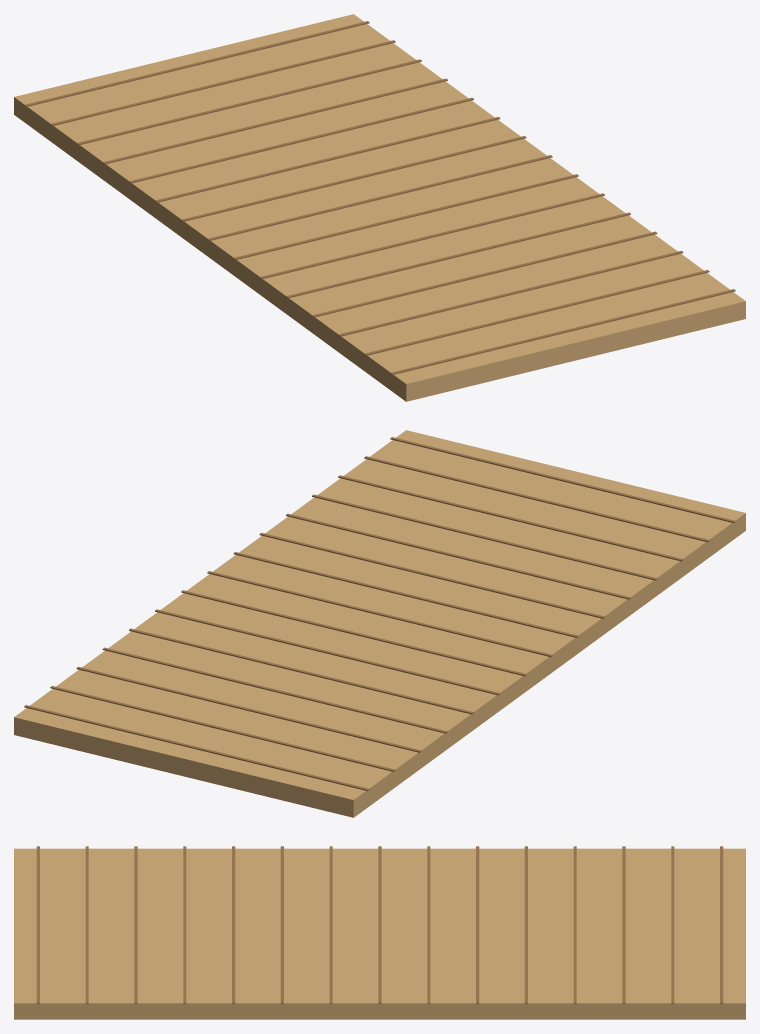
Rendered from Lake_Boardwalk.glb.
The picture shows the model from 3 angles, top to bottom: view 1: azimuth 30°, elevation 25°; view 2: azimuth 150°, elevation 25°; view 3: azimuth 270°, elevation 25°; orthographic projection. The views are drawn at different scales.
Visible parts, largest first — view 1: Lake_Boardwalk; view 2: Lake_Boardwalk; view 3: Lake_Boardwalk.
Boxes of the visible parts, x1,y1,x2,y2 form: Lake_Boardwalk: (14,14,745,401); Lake_Boardwalk: (14,430,745,817); Lake_Boardwalk: (14,846,745,1019).
Size of the model in its own units: 9.1 by 0.49 by 18.
